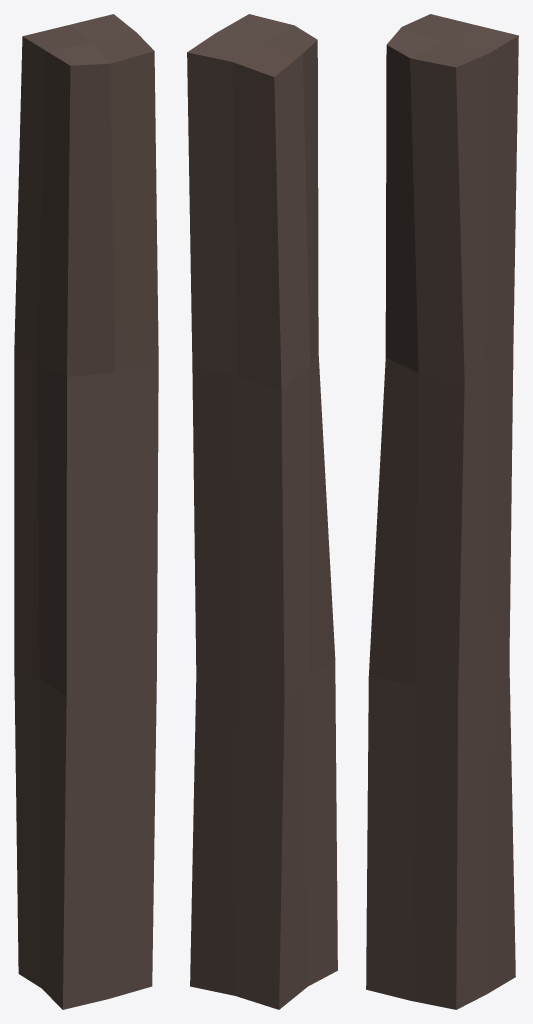
Rendered from Beam_05.fbx.
The picture shows the model from 3 angles, left to right: view 1: azimuth 30°, elevation 25°; view 2: azimuth 150°, elevation 25°; view 3: azimuth 330°, elevation 25°; orthographic projection.
Visible parts, largest first — view 1: Beam_05; view 2: Beam_05; view 3: Beam_05.
Boxes of the visible parts, x1,y1,x2,y2 form: Beam_05: [14, 14, 158, 1009]; Beam_05: [187, 14, 337, 1009]; Beam_05: [366, 14, 518, 1009].
Bounding box in the file's own units: 18.46 × 164 × 17.29.
1 material, 1 textured.
